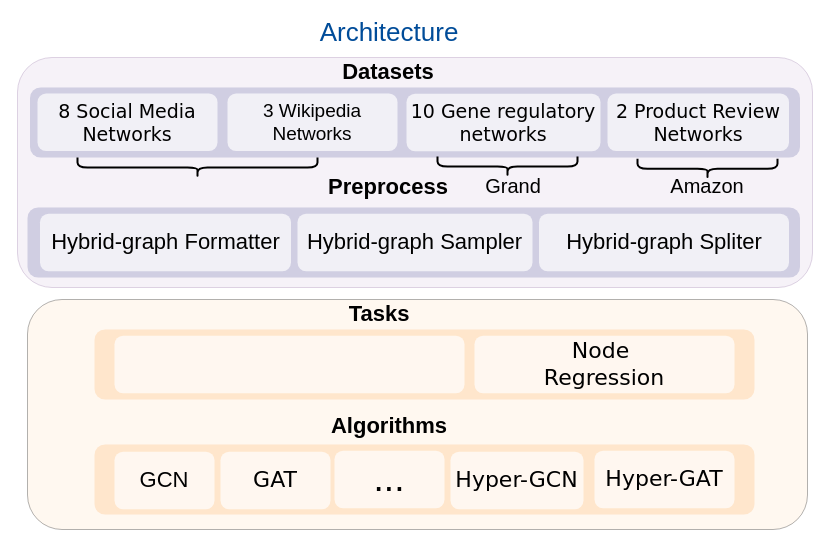
This 830x547 diagram has some shape labels left out. Here are the shapes that lost their labels. From the top down, the box of each, then its label:
(76, 156, 318, 178): Musae
(114, 335, 464, 393): Node Classification
